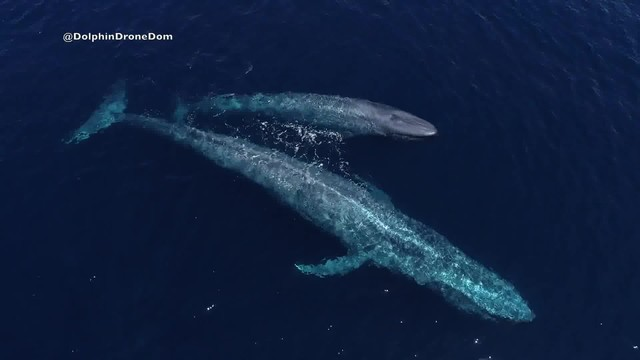whale: (57, 75, 539, 333), (155, 83, 442, 143)
